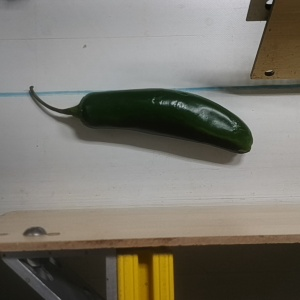Cut Point: (63, 91, 99, 131)
